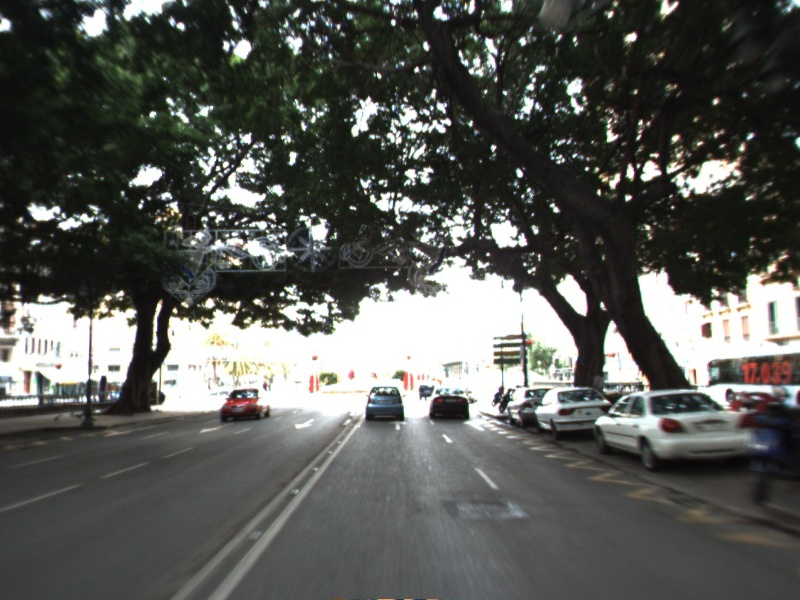STRAIGHT: (387, 418, 410, 432)
